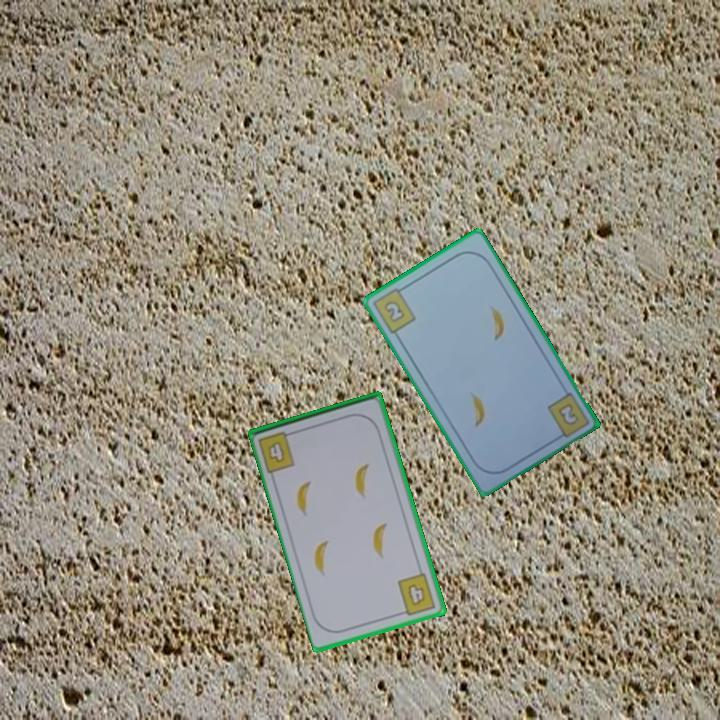2b: (369, 282, 419, 337), (554, 399, 581, 428)
4b: (394, 569, 439, 618), (255, 428, 299, 475)
